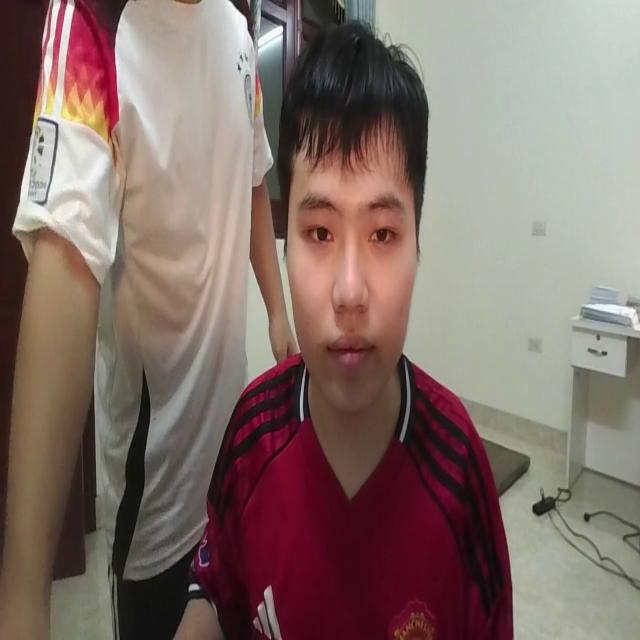extra_person: (1, 0, 297, 640)
student: (182, 12, 514, 640)
